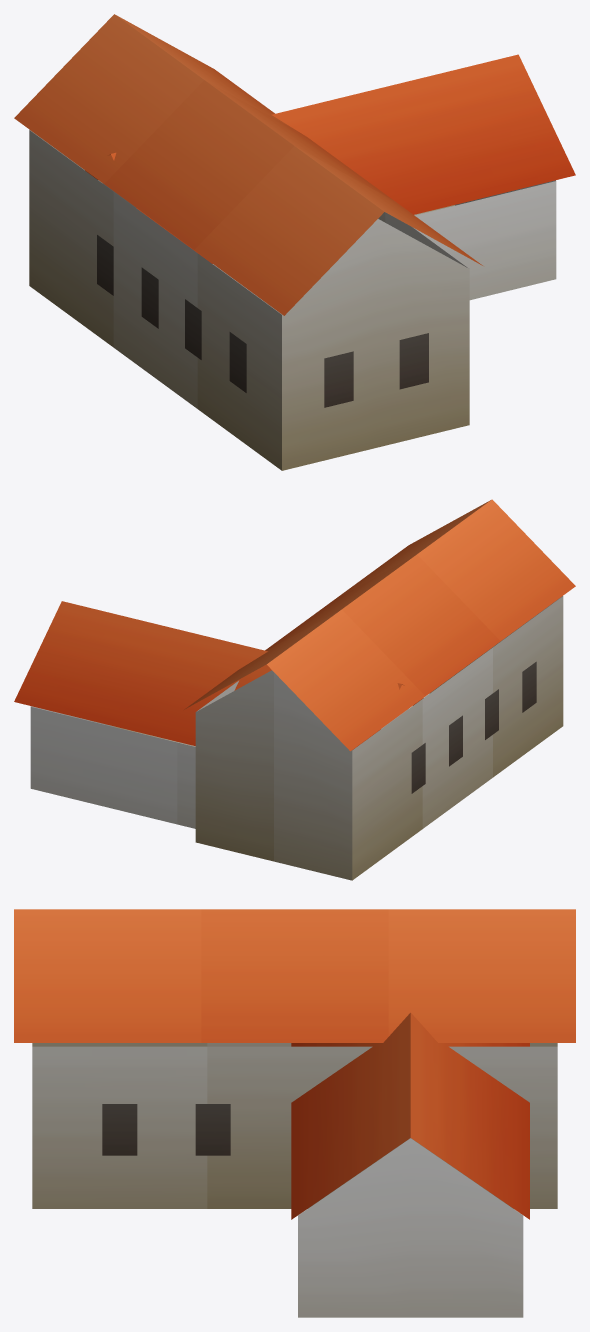
File: SM_House_01.fbx
The picture shows the model from 3 angles, top to bottom: view 1: azimuth 30°, elevation 25°; view 2: azimuth 150°, elevation 25°; view 3: azimuth 270°, elevation 25°; orthographic projection. The views are drawn at different scales.
Visible parts, largest first — view 1: SM_House_01; view 2: SM_House_01; view 3: SM_House_01.
Boxes of the visible parts, box(x1,y1,x2,y2) form: SM_House_01: box(14, 14, 575, 470); SM_House_01: box(14, 499, 575, 880); SM_House_01: box(14, 909, 575, 1317).
Size of the model in its own units: 0.6798 by 0.3706 by 0.7487.
